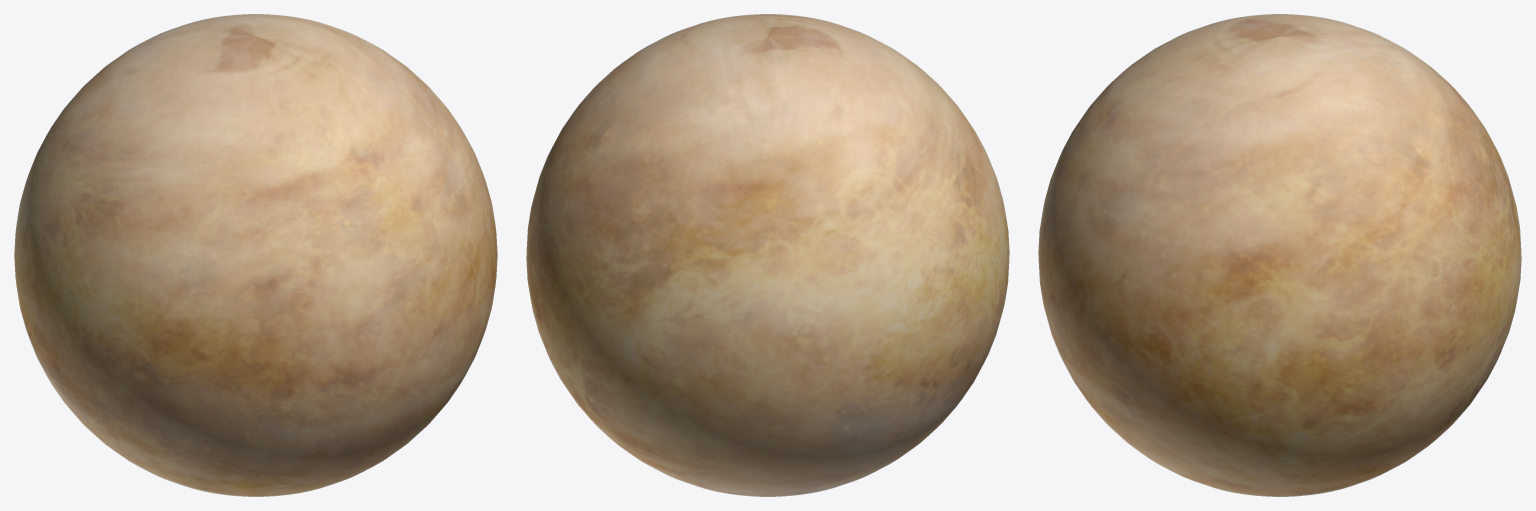
The model's file is venus.glb.
3 renders of one model, left to right at view 1: azimuth 30°, elevation 25°; view 2: azimuth 150°, elevation 25°; view 3: azimuth 270°, elevation 25°, orthographic.
Parts seen in each view (by area): view 1: Venus Clouds, Venus; view 2: Venus Clouds, Venus; view 3: Venus Clouds, Venus.
Part boxes in pixels (box(x1,y1,x2,y2)): Venus Clouds: box(14, 14, 497, 496); Venus: box(15, 15, 496, 495); Venus Clouds: box(526, 14, 1009, 496); Venus: box(527, 15, 1008, 495); Venus Clouds: box(1038, 14, 1521, 496); Venus: box(1039, 15, 1520, 495).
Size of the model in its own units: 1.62 by 1.62 by 1.62.
2 materials, 2 textured.
